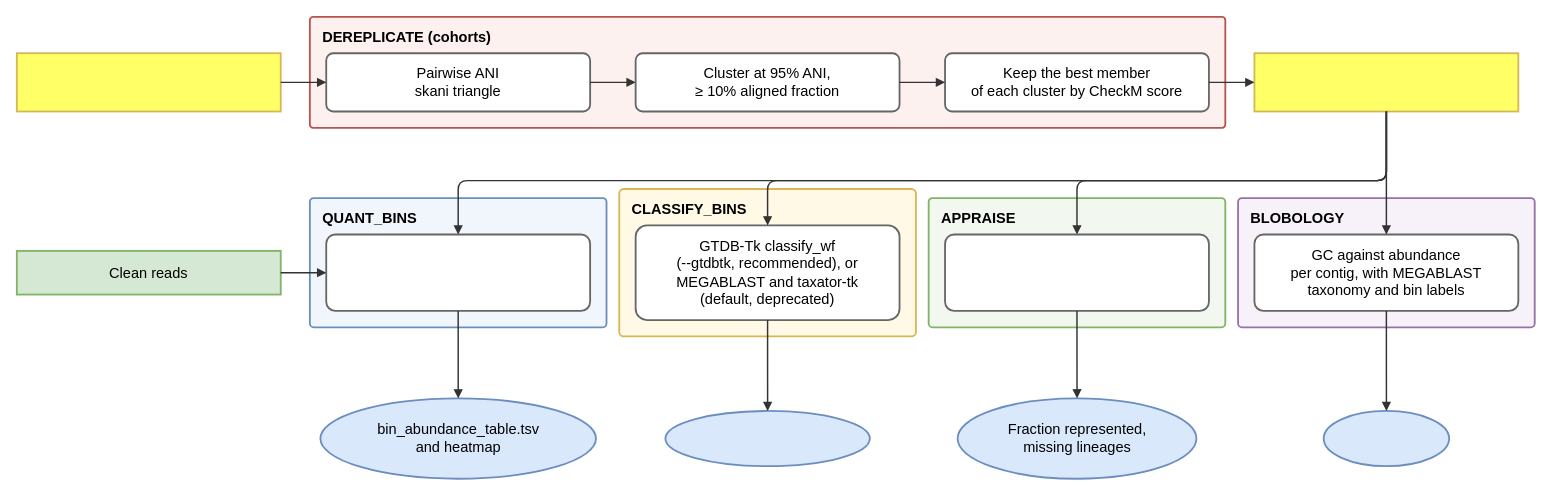
This 1551x495 diagram has some shape labels left out. The shapes that lost their labels are listed below. From the top down, each one's centre as x and y in pixels, then its label:
At (x=148, y=82): "Refined or reassembled bins, per sample".
At (x=1386, y=82): "MAG catalogue dereplicated_genomes/".
At (x=458, y=272): "Abundance per sample sylph (default), salmon, CoverM or the depth table".
At (x=1076, y=272): "Share of the community in the genomes SingleM on reads and genomes".
At (x=767, y=438): "bin_taxonomy.tsv".
At (x=1386, y=438): "Blobplots".
